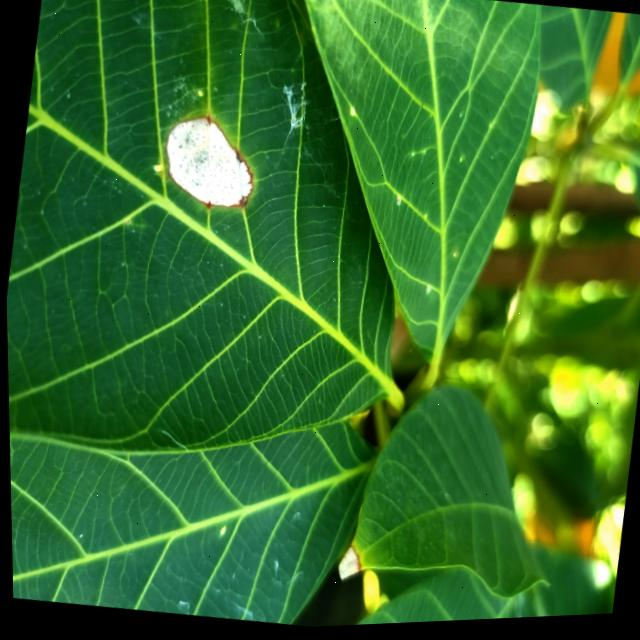Leaf-Blight: (159, 111, 261, 215), (333, 546, 361, 584)
